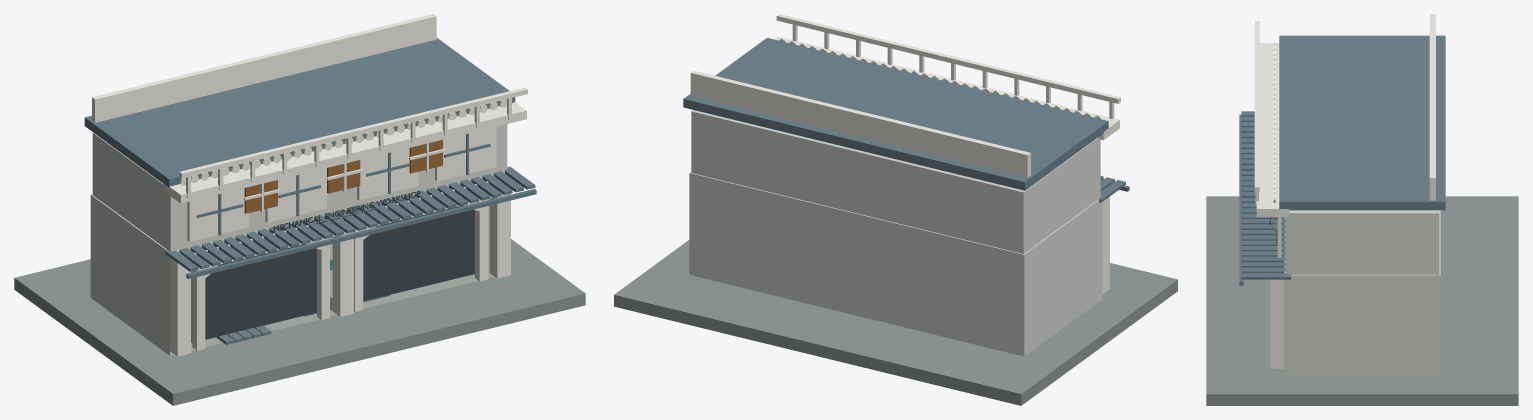
Rendered from workshop.glb.
3 views of the same model, side by side, from view 1: azimuth 30°, elevation 25°; view 2: azimuth 150°, elevation 25°; view 3: azimuth 270°, elevation 25° (orthographic).
Parts seen in each view (by area): view 1: Ground, Roof, Lower, Parapet, Upper, BayLeft, BayRight, BalconySlab, BalconyRailTop, AwningEdge, LatticePanel, LatticePanel.003 (+13 smaller); view 2: Lower, Ground, Upper, Roof, Parapet, BalconyRailTop, BalconySlab, Pier; view 3: Ground, Roof, Lower, Upper, BalconySlab, Pier.002, Parapet, BalconyRailTop, AwningEdge, Awning.030, Awning.027.
Boxes of the visible parts, x1,y1,x2,y2 form: Ground: (14, 239, 585, 405); Roof: (84, 38, 515, 187); Lower: (90, 170, 504, 355); Parapet: (92, 14, 436, 122); Upper: (92, 124, 507, 251); BayLeft: (191, 244, 316, 342); BayRight: (363, 205, 474, 301); BalconySlab: (164, 102, 526, 203); BalconyRailTop: (179, 87, 527, 178); AwningEdge: (186, 189, 536, 278); LatticePanel: (187, 188, 249, 241); LatticePanel.003: (435, 126, 496, 181); Lower: (689, 172, 1102, 356); Ground: (614, 240, 1177, 405); Upper: (691, 110, 1100, 253); Roof: (683, 38, 1108, 190); Parapet: (690, 70, 1030, 177); BalconyRailTop: (776, 14, 1120, 103); BalconySlab: (774, 36, 1119, 140); Pier: (1102, 196, 1109, 293); Ground: (1206, 196, 1518, 405); Roof: (1279, 35, 1445, 210); Lower: (1284, 210, 1440, 376); Upper: (1285, 210, 1439, 274); BalconySlab: (1256, 43, 1288, 217); Pier.002: (1270, 279, 1284, 368); Parapet: (1429, 14, 1435, 200); BalconyRailTop: (1254, 21, 1259, 191); AwningEdge: (1239, 114, 1243, 285); Awning.030: (1241, 273, 1290, 279); Awning.027: (1241, 256, 1285, 262).
Size of the model in its own units: 18 by 8.95 by 12.
